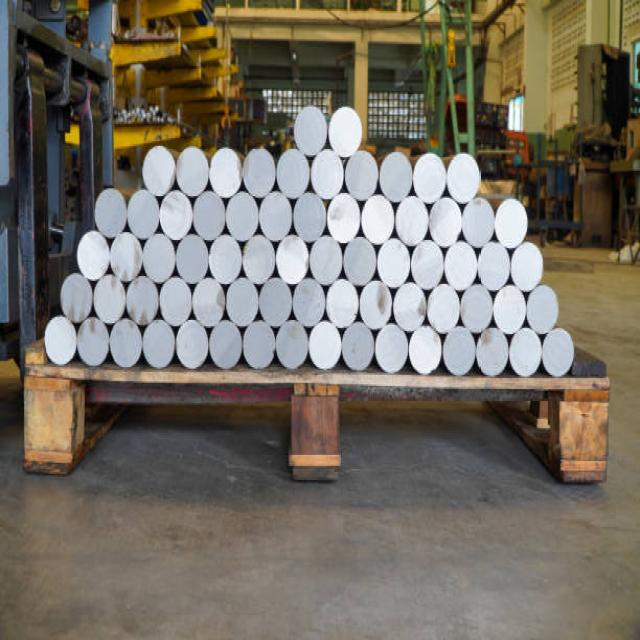Wooden-Pallets: (27, 364, 612, 505)
